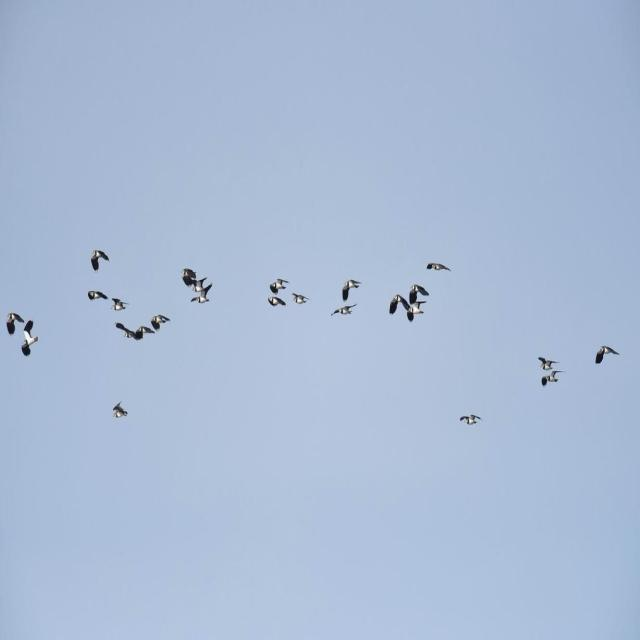bird: (594, 346, 622, 368), (337, 278, 361, 301), (387, 291, 408, 317), (115, 322, 143, 341), (180, 267, 202, 291), (405, 300, 427, 324), (90, 249, 111, 274), (4, 310, 24, 336), (191, 282, 214, 304), (18, 334, 38, 359), (407, 285, 431, 302), (267, 276, 289, 294), (149, 314, 172, 331), (188, 290, 212, 306), (536, 357, 561, 372), (331, 304, 356, 319), (112, 403, 131, 421), (540, 373, 562, 388), (459, 414, 484, 427), (87, 290, 108, 305), (110, 297, 129, 313), (427, 263, 451, 275), (267, 296, 287, 310), (292, 293, 309, 307)
